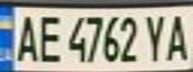2: (118, 11, 142, 64)
4: (63, 11, 87, 63)
6: (103, 11, 124, 64)
7: (81, 11, 106, 63)
A: (9, 10, 42, 63), (163, 9, 193, 63)
E: (33, 10, 63, 63)
Y: (142, 11, 169, 63)
